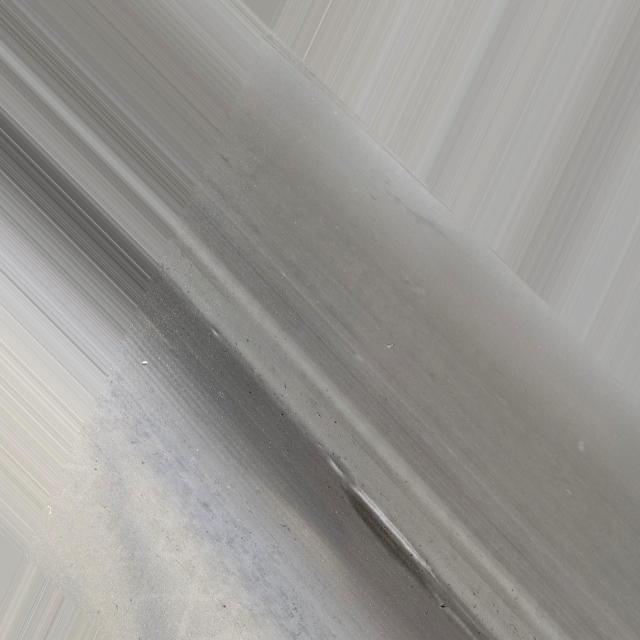Impact Damage: (323, 460, 456, 620)
